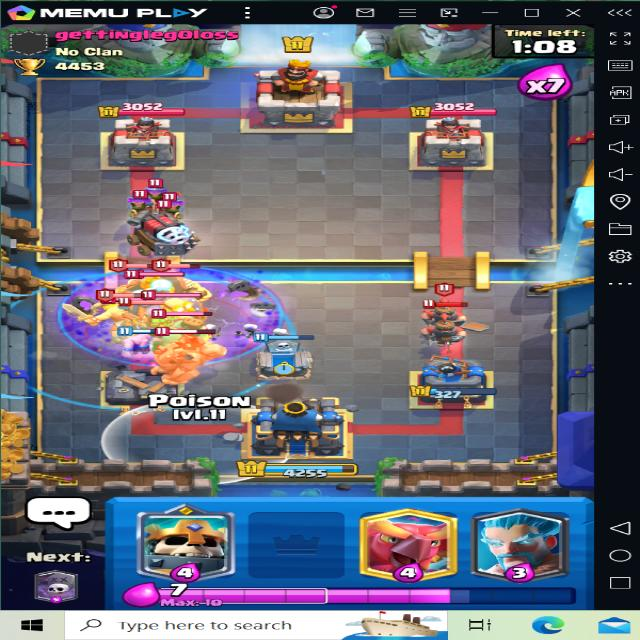electro-barbarians: (68, 295, 130, 323)
electro-giant: (124, 278, 226, 340)
goblin-giant: (139, 308, 228, 359)
golem: (145, 326, 231, 379)
musketeer: (137, 172, 173, 210), (121, 186, 159, 217), (159, 192, 193, 218)
royal-giant: (114, 266, 213, 306)
royal-recruits: (420, 288, 468, 323), (421, 312, 465, 349)
sparky: (131, 199, 201, 255)
